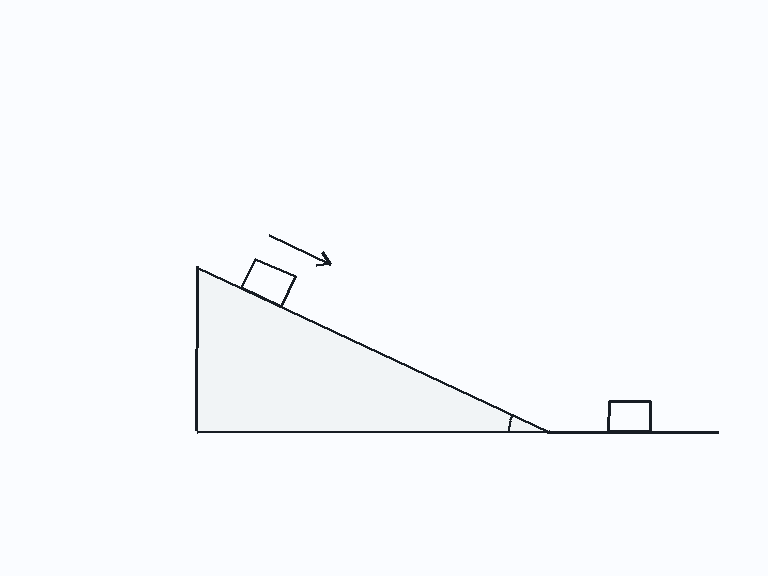block: (240, 256, 297, 308), (606, 398, 652, 433)
ramp: (194, 265, 551, 433)
